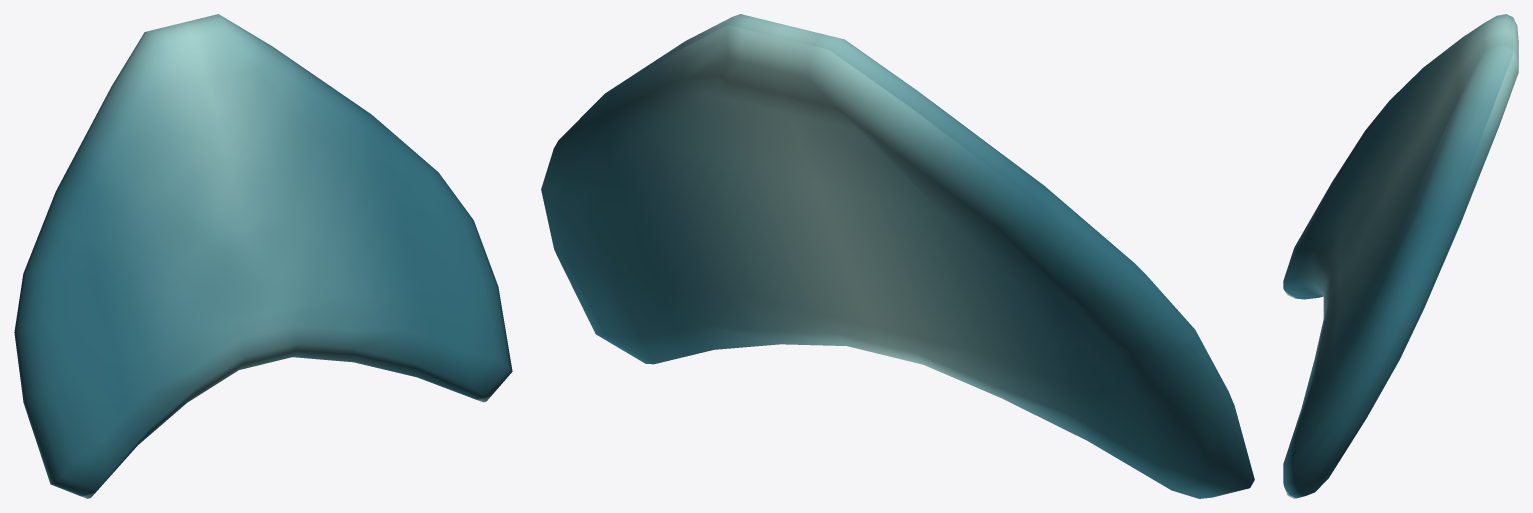
The model's file is fin.obj.
3 renders of one model, left to right at view 1: azimuth 30°, elevation 25°; view 2: azimuth 150°, elevation 25°; view 3: azimuth 270°, elevation 25°, orthographic. The views are drawn at different scales.
Parts seen in each view (by area): view 1: Box002; view 2: Box002; view 3: Box002.
Part boxes in pixels (bbox=[...]): Box002: bbox=[14, 14, 512, 498]; Box002: bbox=[541, 14, 1254, 498]; Box002: bbox=[1283, 14, 1518, 498].
Bounding box in the file's own units: 3.42 × 2.45 × 1.42.
